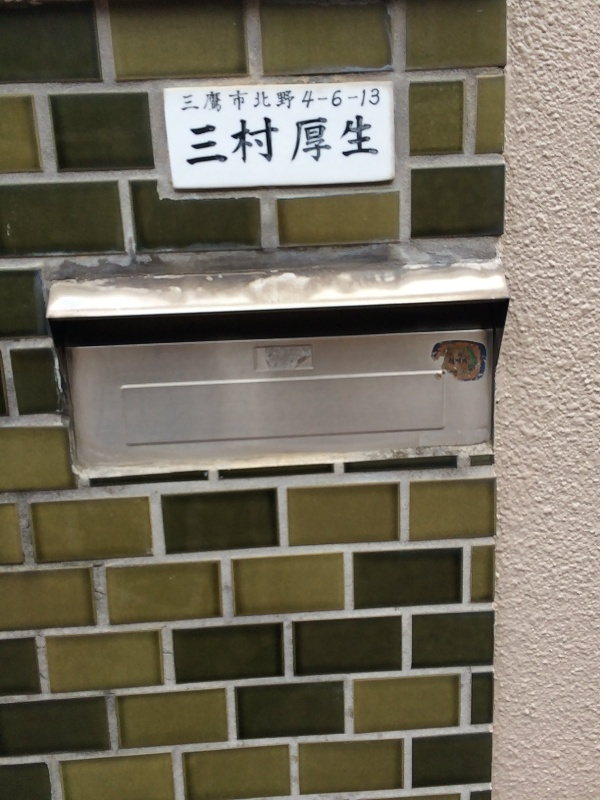text: (193, 115, 208, 169), (209, 115, 224, 169), (225, 115, 240, 169), (241, 115, 256, 169), (257, 115, 272, 169), (273, 115, 288, 169), (289, 115, 304, 169), (305, 115, 320, 169), (321, 115, 336, 169), (337, 115, 352, 169), (353, 115, 368, 169), (369, 115, 379, 169), (193, 89, 208, 115), (209, 89, 224, 115), (225, 89, 240, 115), (241, 89, 256, 115), (257, 89, 272, 115), (273, 89, 288, 115), (289, 89, 304, 115), (305, 89, 320, 115), (321, 89, 336, 115), (337, 89, 352, 115), (353, 89, 368, 115), (369, 89, 380, 115), (182, 89, 192, 115), (189, 115, 192, 169)
